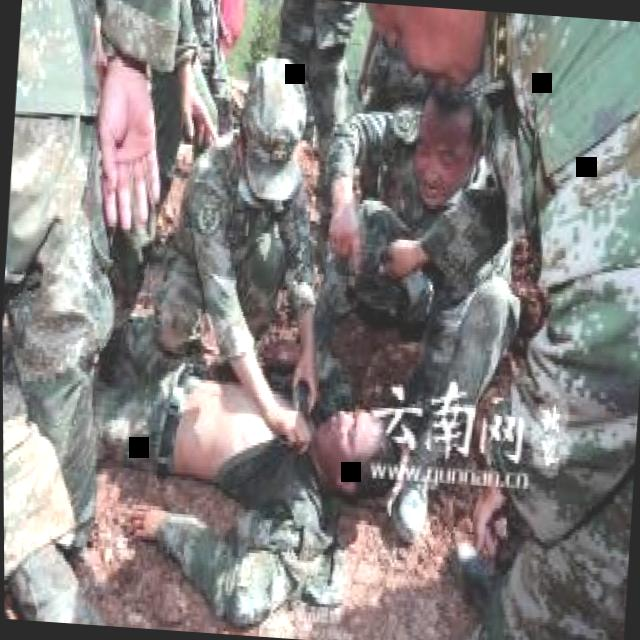Fall-Detected: (72, 264, 417, 634)
